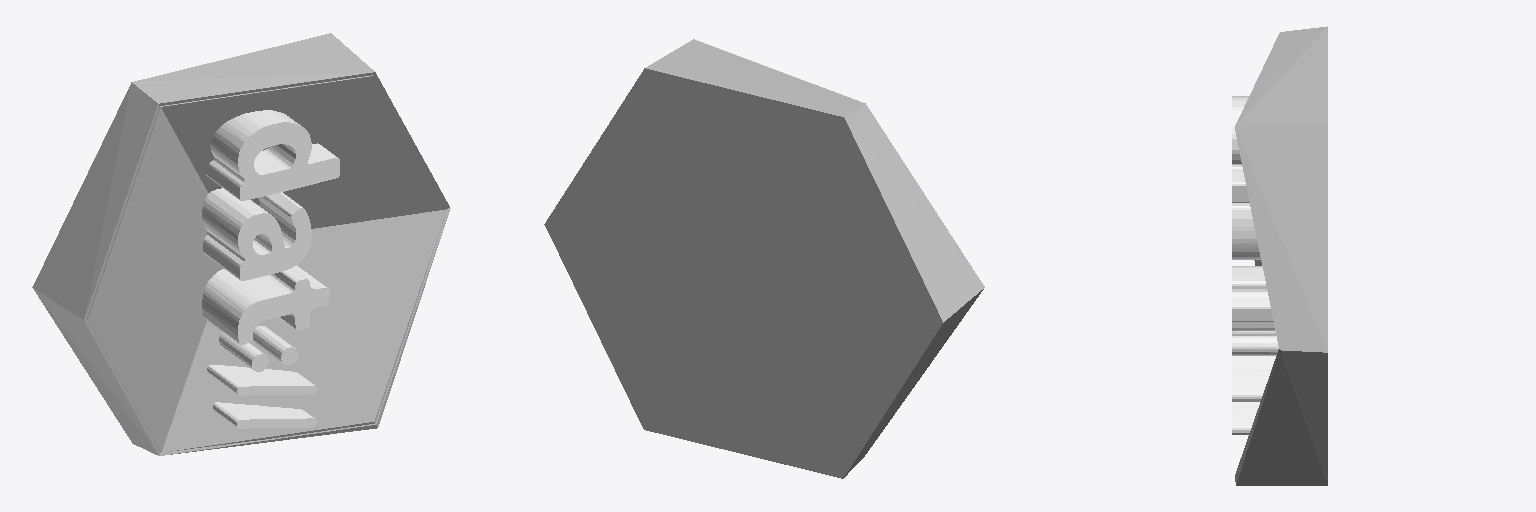
The model's file is dat.obj.
3 views of the same model, side by side, from view 1: azimuth 30°, elevation 25°; view 2: azimuth 150°, elevation 25°; view 3: azimuth 270°, elevation 25° (orthographic).
Parts seen in each view (by area): view 1: Object.1; view 2: Object.1; view 3: Object.1.
Part boxes in pixels (x1,y1,x2,y2): Object.1: (32,33,450,455); Object.1: (544,39,984,478); Object.1: (1232,26,1327,485).
Bounding box in the file's own units: 66.59 × 57.76 × 13.91.